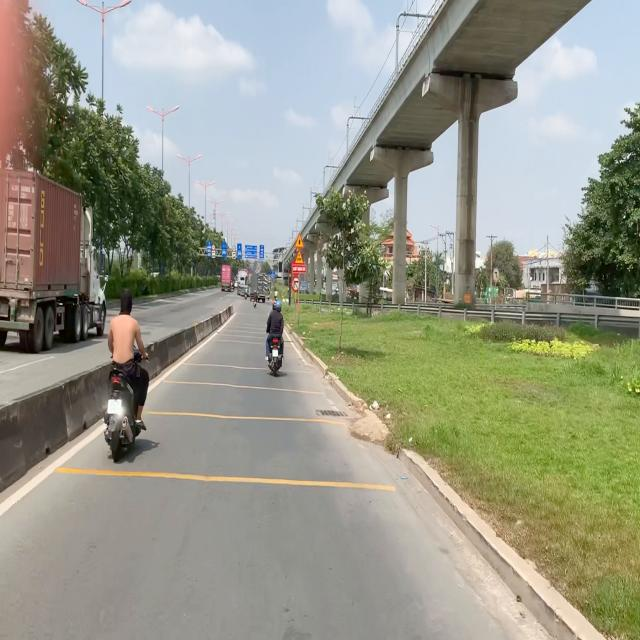Cam re phai: (291, 276, 301, 293)
Giao voi duong khong uu tien: (294, 232, 305, 248)
Nguy hiem: (294, 250, 304, 264)
